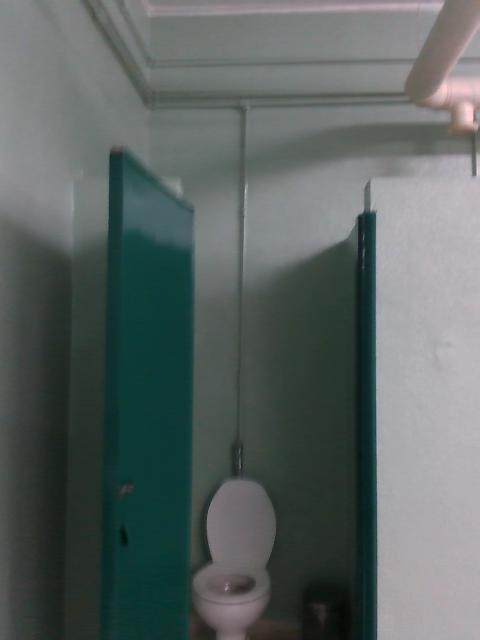open_door: (181, 176, 377, 639)
